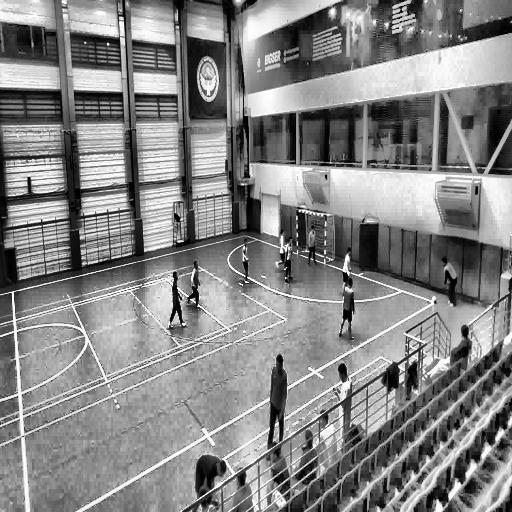ball: (432, 293, 438, 306)
player: (267, 354, 288, 450), (334, 362, 353, 443), (168, 270, 186, 330), (339, 276, 354, 339), (186, 260, 202, 312), (442, 254, 457, 307), (342, 245, 354, 300), (275, 226, 287, 274), (242, 235, 252, 286), (284, 234, 294, 281), (307, 224, 317, 266)
